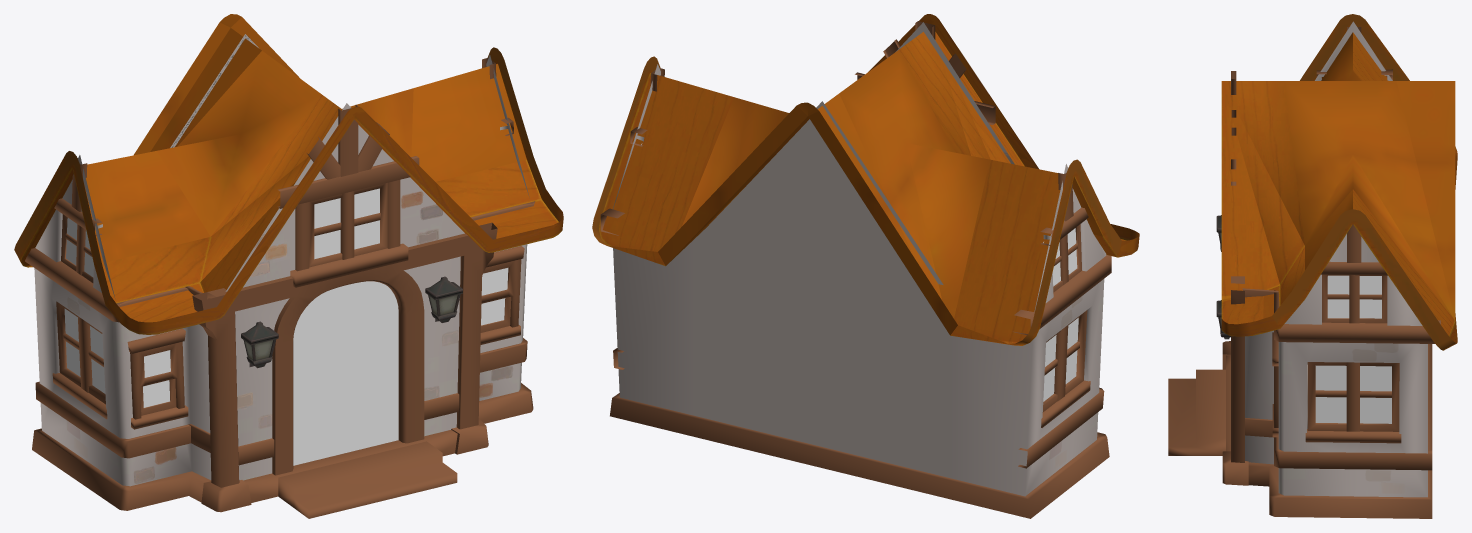
File: standard_walls_4.glb
The picture shows the model from 3 angles, left to right: view 1: azimuth 30°, elevation 25°; view 2: azimuth 150°, elevation 25°; view 3: azimuth 270°, elevation 25°; orthographic projection. The views are drawn at different scales.
Visible parts, largest first — view 1: Roof__mWallA, HouseWallModel_low2_WallDoorBase_low_polySurface888__mWallB, pPlane10__mSoftMesh, WindowGlass_1__mWindowGlass, brick1__mLamp, pPlane6__mSideWindow; view 2: Roof__mWallA, HouseWallModel_low2_WallDoorBase_low_polySurface888__mWallB, pPlane6__mSideWindow; view 3: Roof__mWallA, HouseWallModel_low2_WallDoorBase_low_polySurface888__mWallB, pPlane6__mSideWindow, brick1__mLamp.
Boxes of the visible parts, <box> form: Roof__mWallA: <box>14,14,563,486</box>; HouseWallModel_low2_WallDoorBase_low_polySurface888__mWallB: <box>25,58,535,518</box>; pPlane10__mSoftMesh: <box>293,281,398,465</box>; WindowGlass_1__mWindowGlass: <box>143,188,508,407</box>; brick1__mLamp: <box>172,35,462,368</box>; pPlane6__mSideWindow: <box>64,218,105,393</box>; Roof__mWallA: <box>592,14,1139,496</box>; HouseWallModel_low2_WallDoorBase_low_polySurface888__mWallB: <box>600,21,1111,518</box>; pPlane6__mSideWindow: <box>641,143,1078,401</box>; Roof__mWallA: <box>1221,14,1457,497</box>; HouseWallModel_low2_WallDoorBase_low_polySurface888__mWallB: <box>1168,27,1440,518</box>; pPlane6__mSideWindow: <box>1315,275,1391,423</box>; brick1__mLamp: <box>1216,215,1230,339</box>.
Bounding box in the file's own units: 48.63 × 39.5 × 29.3.
Materials: 8 (3 with a texture image).
